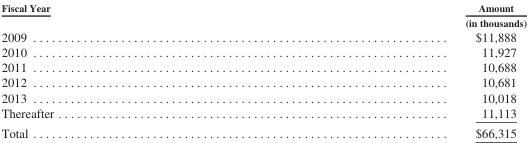table: (0, 1, 526, 139)
table column: (258, 1, 526, 139), (0, 1, 258, 139)
table column header: (0, 1, 526, 28)
table row: (0, 1, 526, 28), (0, 104, 526, 122), (0, 122, 526, 139), (0, 28, 526, 44), (0, 44, 526, 59), (0, 59, 526, 74), (0, 74, 526, 89), (0, 89, 526, 104)
